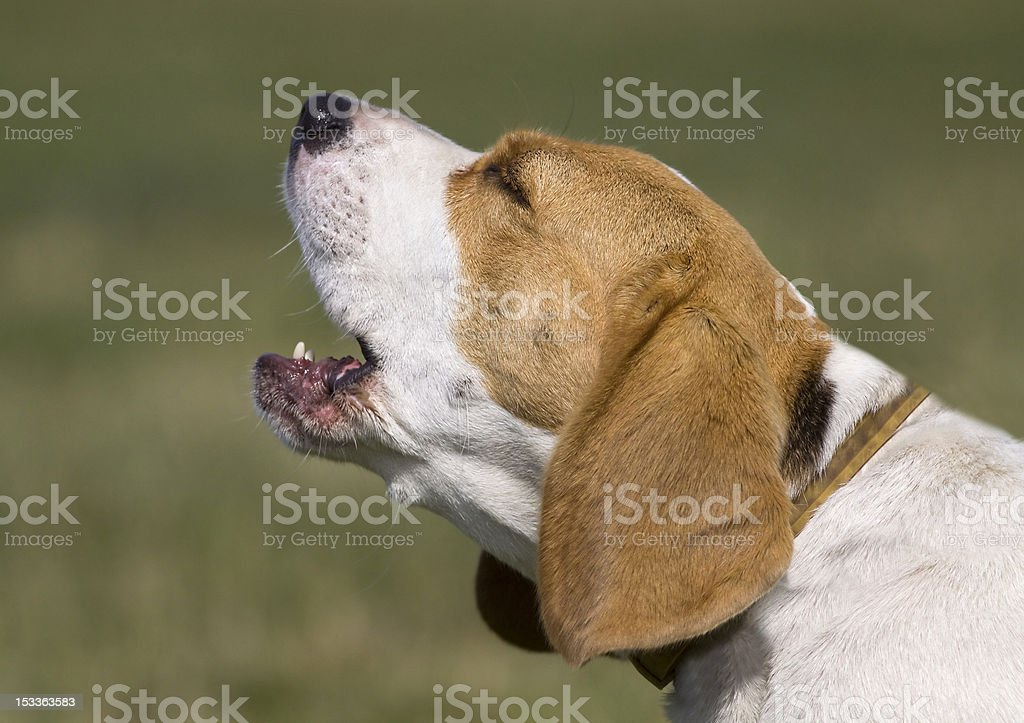dog: (242, 64, 1024, 723)
